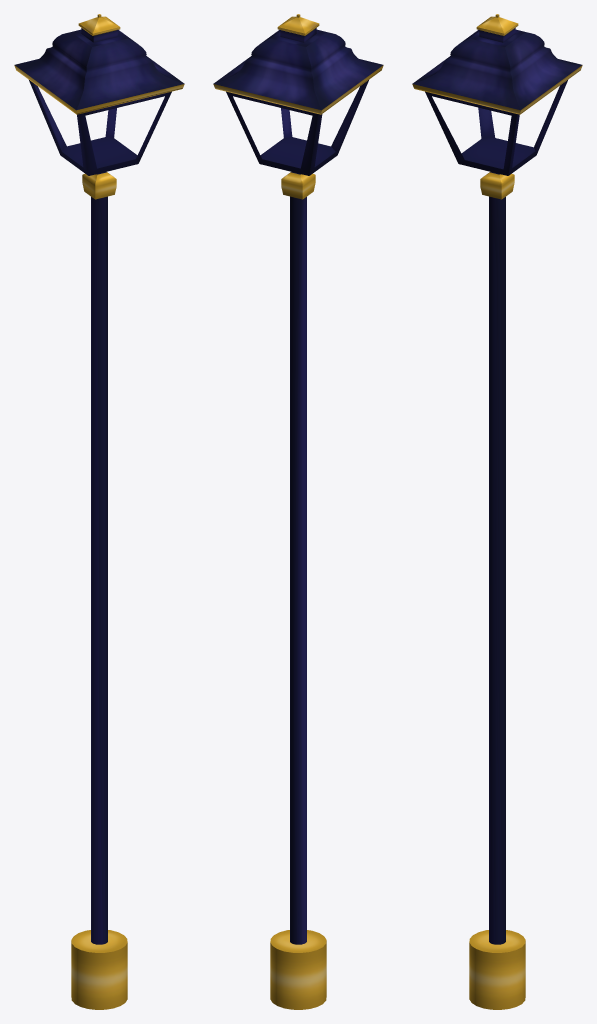
Rendered from lamp.fbx.
3 renders of one model, left to right at view 1: azimuth 30°, elevation 25°; view 2: azimuth 150°, elevation 25°; view 3: azimuth 330°, elevation 25°, orthographic.
Visible parts, largest first — view 1: pCylinder2; view 2: pCylinder2; view 3: pCylinder2.
Part boxes in pixels (left/top/right/bottom): pCylinder2: left=14, top=14, right=184, bottom=1009; pCylinder2: left=213, top=14, right=383, bottom=1009; pCylinder2: left=412, top=14, right=582, bottom=1009.
Size of the model in its own units: 2.66 by 23.01 by 2.63.
1 material, 1 textured.
